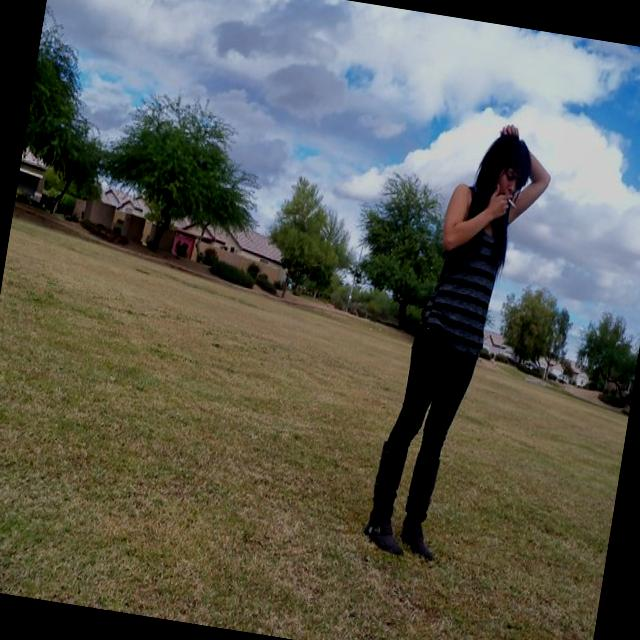cigarette: (506, 197, 527, 230)
